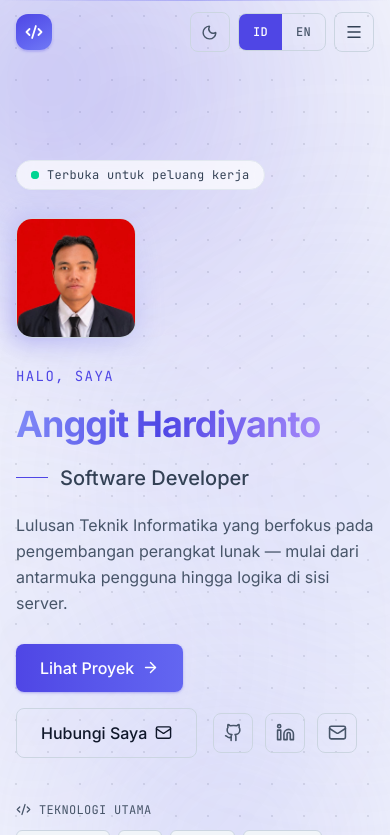
Test case: Navigasi › membuka dan menutup menu mobile via tombol hamburger
Click the button named "Buka menu navigasi" at (354, 32), box left=334, top=12, right=374, bottom=52
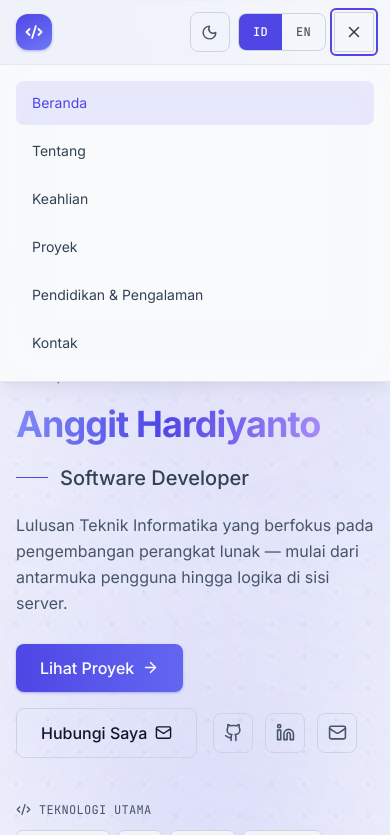
Check: the button named "Tutup menu navigasi" is expanded
Click the button named "Tutup menu navigasi" at (354, 32), box left=334, top=12, right=374, bottom=52
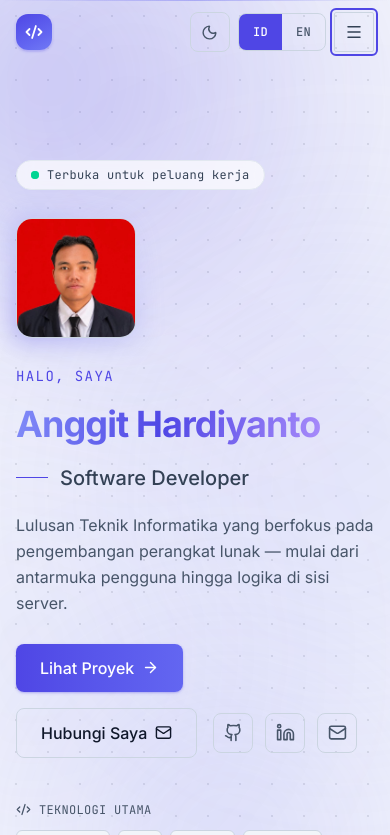
Check: the button named "Buka menu navigasi" is collapsed, box left=334, top=12, right=374, bottom=52
